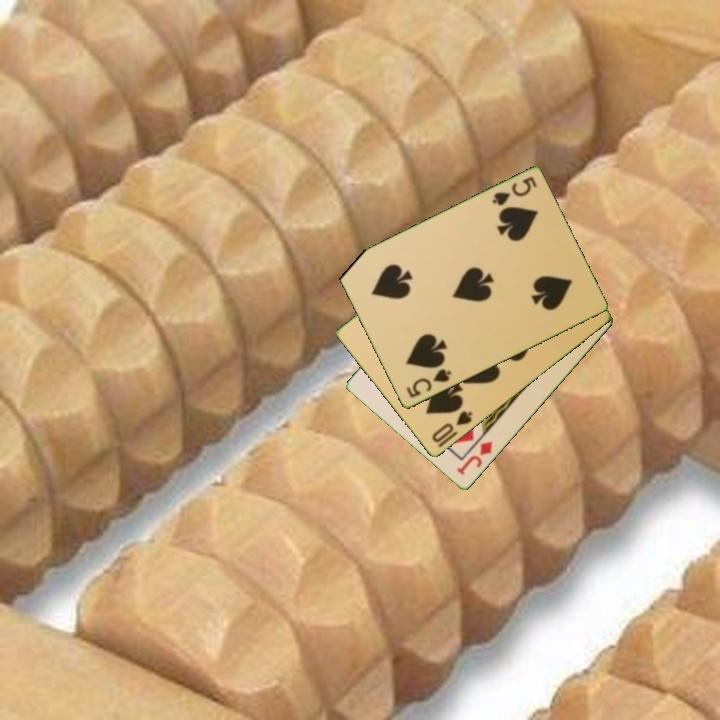10s: (428, 408, 475, 446)
5s: (488, 173, 540, 209), (403, 365, 454, 401)
Jd: (453, 438, 496, 478)
